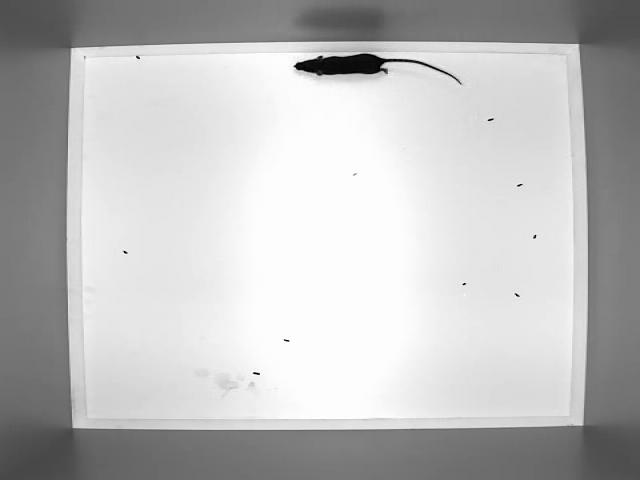Tikus: (294, 52, 462, 83)
